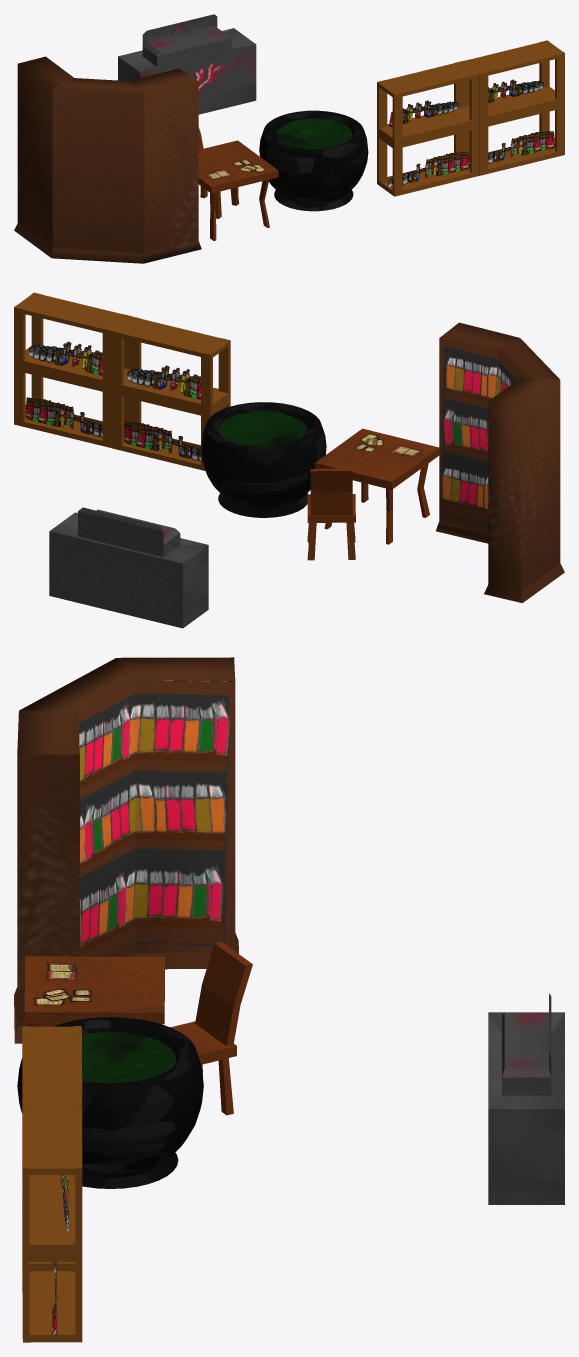
The model's file is Witchcraft room furniture.fbx.
The picture shows the model from 3 angles, top to bottom: view 1: azimuth 30°, elevation 25°; view 2: azimuth 150°, elevation 25°; view 3: azimuth 270°, elevation 25°; orthographic projection. The views are drawn at different scales.
Parts seen in each view (by area): view 1: corner bookcase, Floor shelf unit.001, cauldron, Floor shelf unit.002, Cube.053, table.002, chair; view 2: corner bookcase, Cube.053, cauldron, Floor shelf unit.001, Floor shelf unit.002, table.002, chair; view 3: corner bookcase, cauldron, Cube.053, Floor shelf unit.002, table.002, chair, Floor shelf unit.001.
Part boxes in pixels (x1,y1,x2,y2): corner bookcase: (14,56,201,263); Floor shelf unit.001: (377,61,479,196); cauldron: (259,110,368,211); Floor shelf unit.002: (462,40,564,175); Cube.053: (118,14,256,114); table.002: (198,140,278,240); chair: (198,127,239,218); corner bookcase: (436,322,564,603); Cube.053: (49,507,208,628); cauldron: (201,402,326,517); Floor shelf unit.001: (112,316,230,470); Floor shelf unit.002: (14,292,131,447); table.002: (315,428,439,544); chair: (307,468,355,560); corner bookcase: (14,657,238,1043); cauldron: (17,1017,203,1188); Cube.053: (488,993,564,1204); Floor shelf unit.002: (22,1097,82,1342); table.002: (24,956,165,1026); chair: (171,941,252,1115); Floor shelf unit.001: (22,1026,82,1263).
Bounding box in the file's own units: 847 × 293 × 485.
